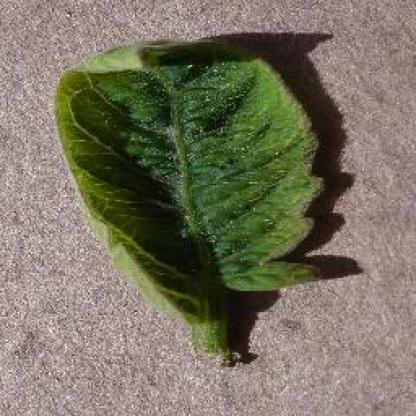bad leaf: (58, 32, 314, 318)
